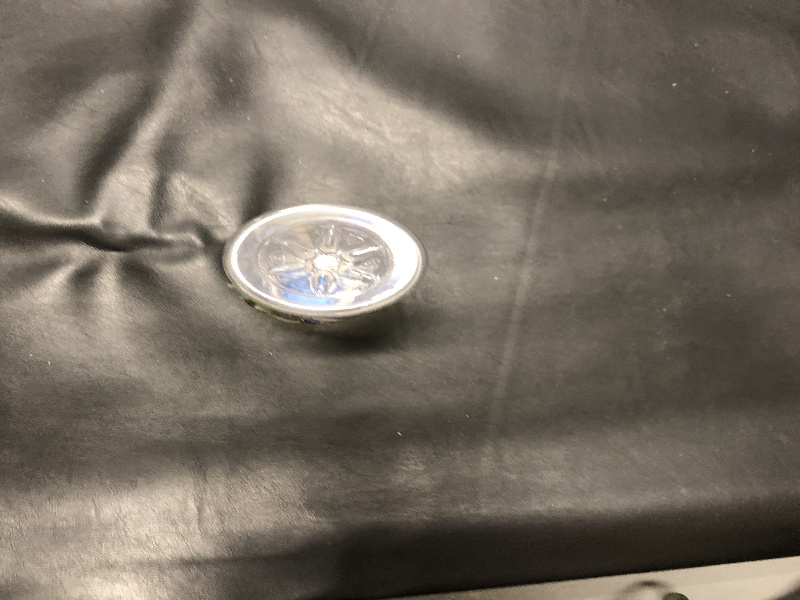plastic: (207, 192, 440, 333)
